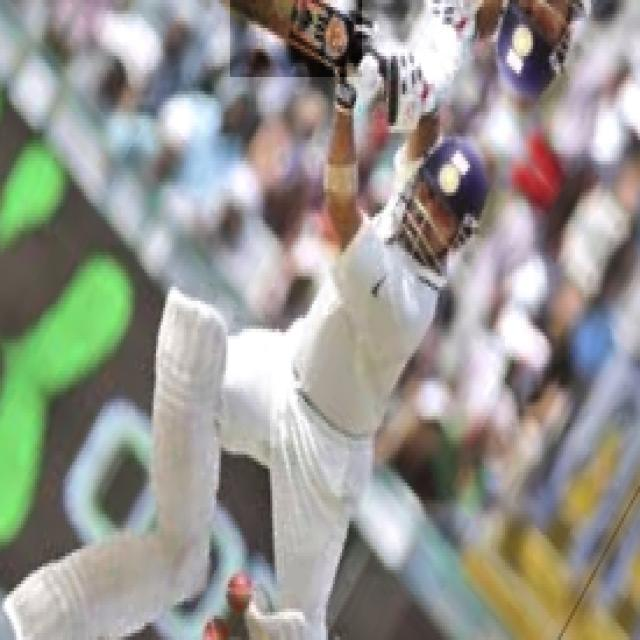bat: (233, 0, 361, 76)
